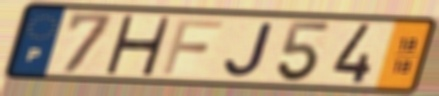4: (330, 21, 374, 86)
5: (273, 18, 334, 85)
7: (63, 10, 117, 76)
F: (159, 17, 226, 77)
H: (101, 13, 174, 78)
J: (221, 20, 278, 79)
